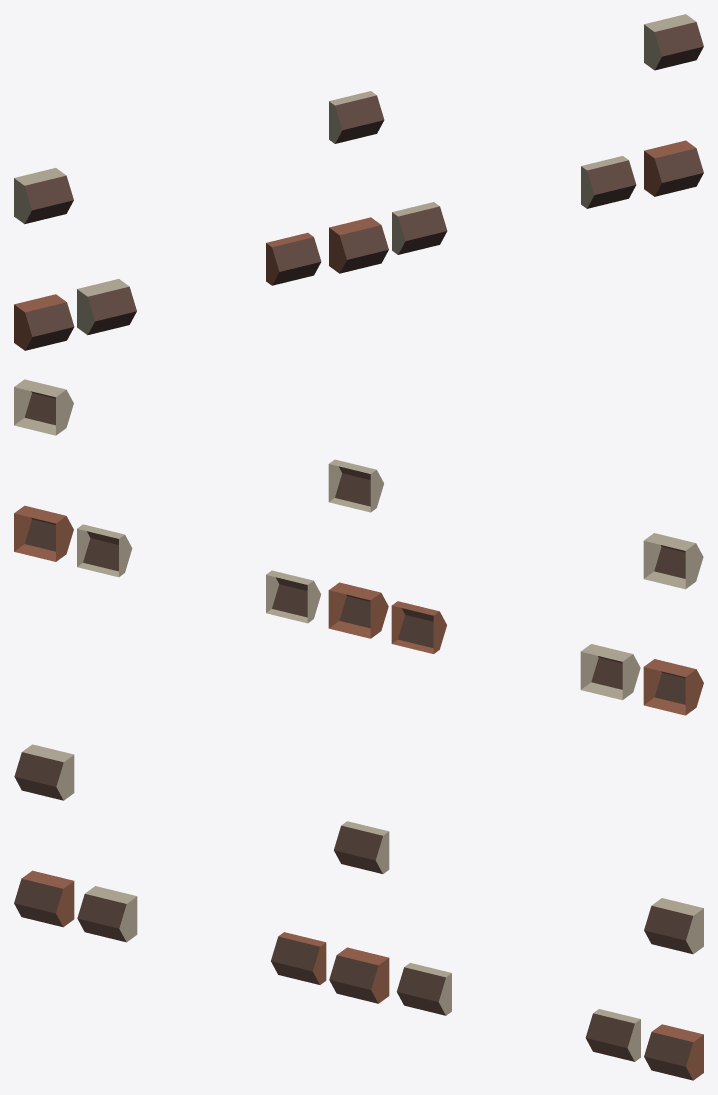
File: island_bldg_19_03.obj
The picture shows the model from 3 angles, top to bottom: view 1: azimuth 30°, elevation 25°; view 2: azimuth 150°, elevation 25°; view 3: azimuth 330°, elevation 25°; orthographic projection.
Visible parts, largest first — view 1: island_bldg_19_03; view 2: island_bldg_19_03; view 3: island_bldg_19_03.
Part boxes in pixels (x1=…): island_bldg_19_03: x1=14, y1=14, x2=703, y2=350; island_bldg_19_03: x1=14, y1=379, x2=703, y2=715; island_bldg_19_03: x1=14, y1=744, x2=703, y2=1080.
Bounding box in the file's own units: 256 × 60 × 12.17.
